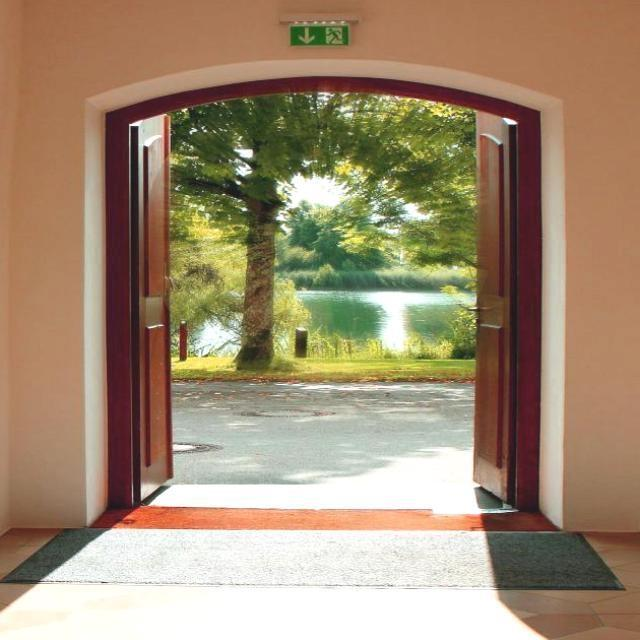door: (470, 108, 514, 506), (129, 113, 172, 504)
